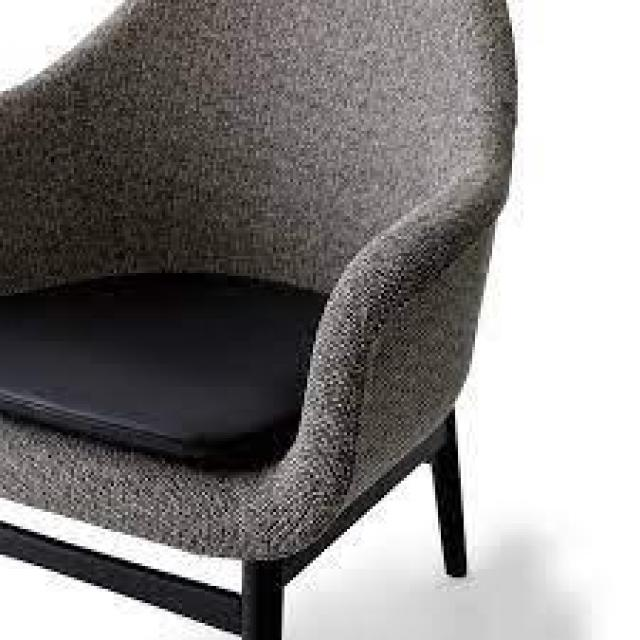chair: (13, 4, 505, 613)
